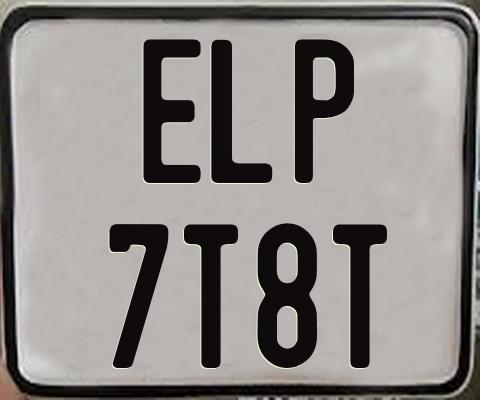7: (108, 222, 169, 370)
8: (254, 223, 319, 368)
E: (140, 38, 200, 185)
L: (210, 37, 271, 184)
P: (293, 39, 358, 183)
T: (184, 222, 241, 367), (330, 222, 384, 367)
